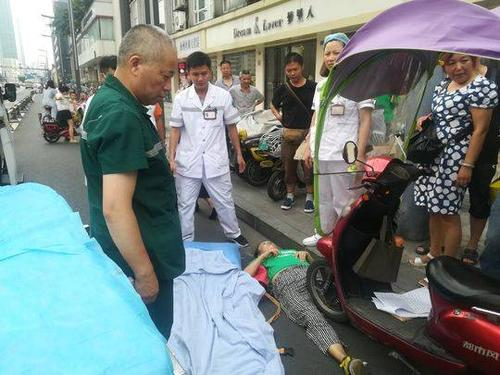10+: (32, 3, 498, 375)
down: (244, 239, 369, 373)
